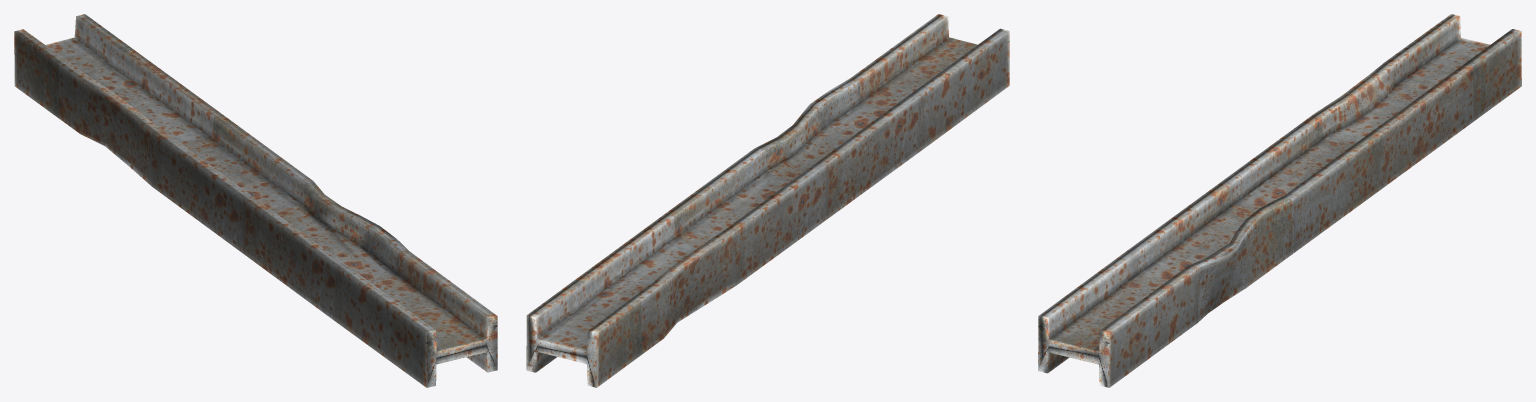
File: Metal Beam.fbx
The picture shows the model from 3 angles, left to right: view 1: azimuth 30°, elevation 25°; view 2: azimuth 150°, elevation 25°; view 3: azimuth 330°, elevation 25°; orthographic projection.
Parts seen in each view (by area): view 1: RetopoGroup1; view 2: RetopoGroup1; view 3: RetopoGroup1.
Boxes of the visible parts, x1,y1,x2,y2 form: RetopoGroup1: [14, 14, 497, 387]; RetopoGroup1: [526, 14, 1009, 387]; RetopoGroup1: [1038, 14, 1521, 387].
Size of the model in its own units: 116 by 84.04 by 1077.
